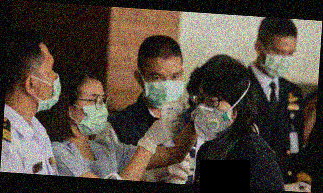with_mask: (189, 91, 230, 142), (142, 67, 185, 110), (74, 91, 110, 138), (36, 59, 62, 113), (262, 46, 293, 78)
